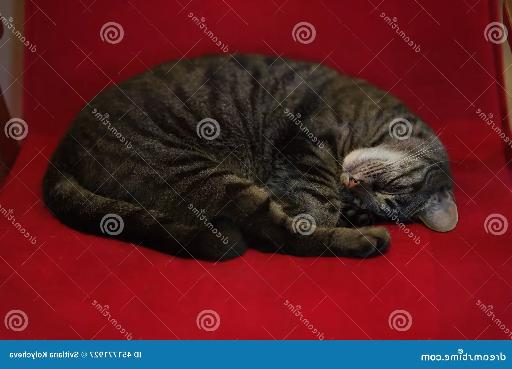cat_sleeping: (43, 54, 458, 262)
